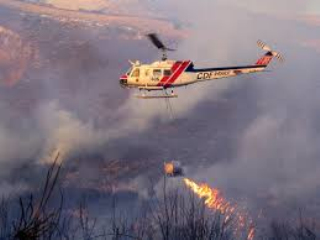fire: (182, 178, 250, 224)
smoke: (27, 99, 104, 158)
